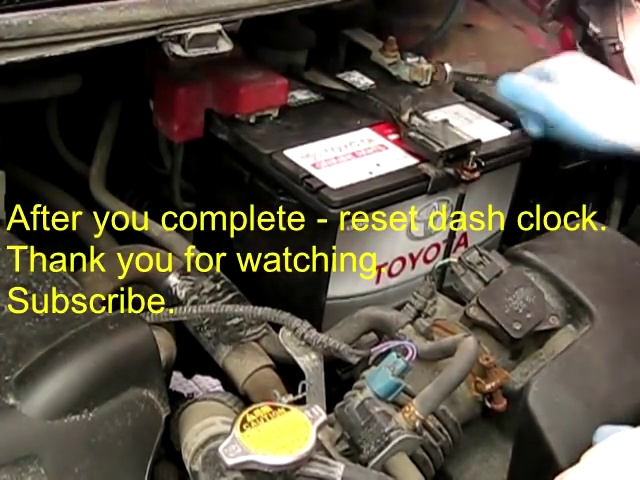battery: (191, 19, 517, 212)
neg_connected: (341, 27, 447, 102)
pos_connected: (154, 57, 289, 140)
